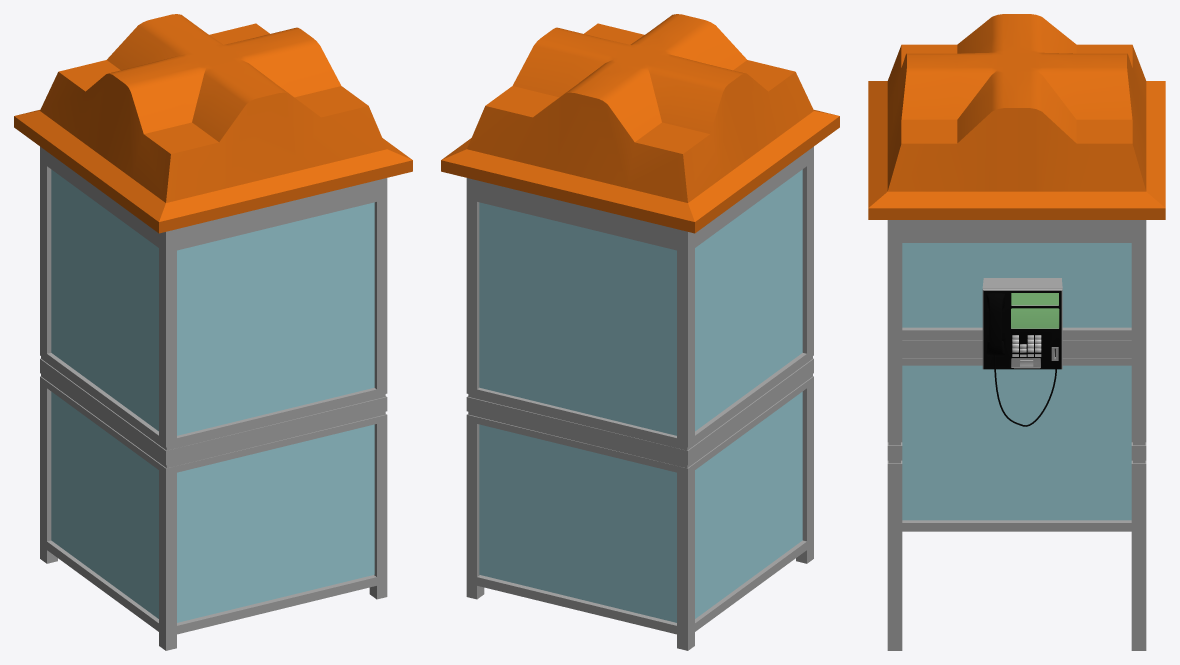
File: phonebooth.fbx
3 views of the same model, side by side, from view 1: azimuth 30°, elevation 25°; view 2: azimuth 150°, elevation 25°; view 3: azimuth 270°, elevation 25° (orthographic). The views are drawn at different scales.
Visible parts, largest first — view 1: Glass, Phonebooth frame; view 2: Glass, Phonebooth frame; view 3: Phonebooth frame, Glass, BézierCurve, Phone.002.
Boxes of the visible parts, <box> form: Glass: <box>51,169,374,622</box>; Phonebooth frame: <box>14,14,412,650</box>; Glass: <box>479,169,802,622</box>; Phonebooth frame: <box>441,14,839,650</box>; Phonebooth frame: <box>868,14,1165,650</box>; Glass: <box>902,243,1131,520</box>; BézierCurve: <box>982,278,1062,426</box>; Phone.002: <box>986,293,1004,355</box>.
Size of the model in its own units: 211 by 413 by 208.
